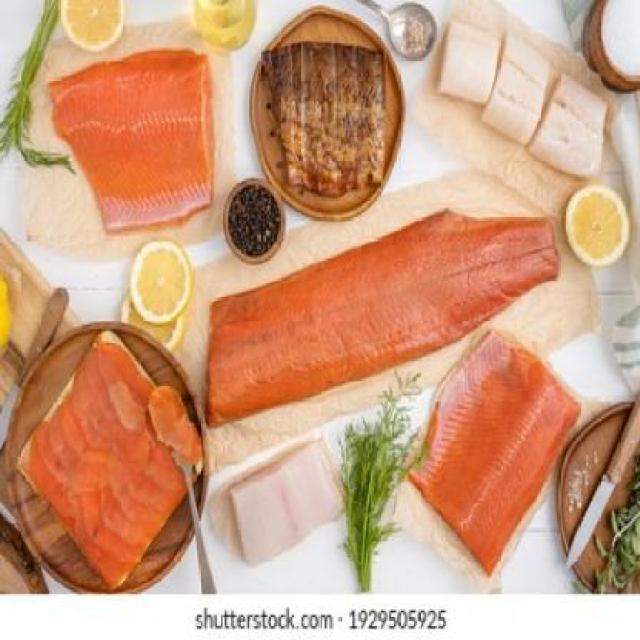salmon: (193, 198, 574, 432), (20, 331, 201, 587), (416, 317, 584, 564), (43, 42, 232, 236)
